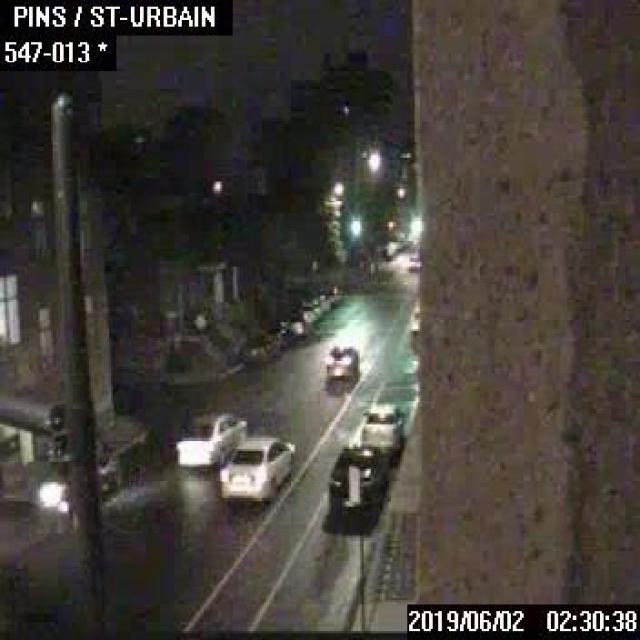vehicle: (0, 462, 75, 558), (220, 436, 295, 500), (328, 443, 388, 518), (175, 411, 247, 473), (358, 401, 403, 457), (322, 342, 356, 384), (95, 439, 117, 497), (238, 329, 273, 364), (405, 311, 418, 349), (286, 314, 306, 336), (406, 247, 420, 269), (298, 302, 313, 321), (310, 298, 322, 317), (318, 292, 330, 311)
